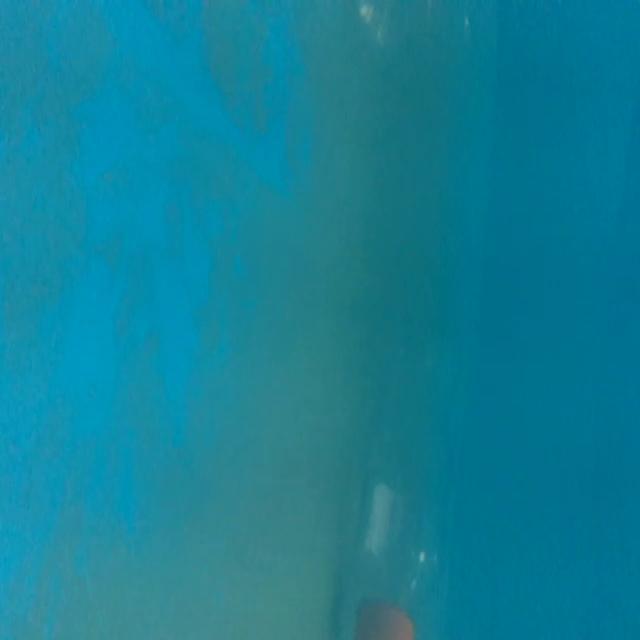plastic bottle: (348, 310, 457, 640)
